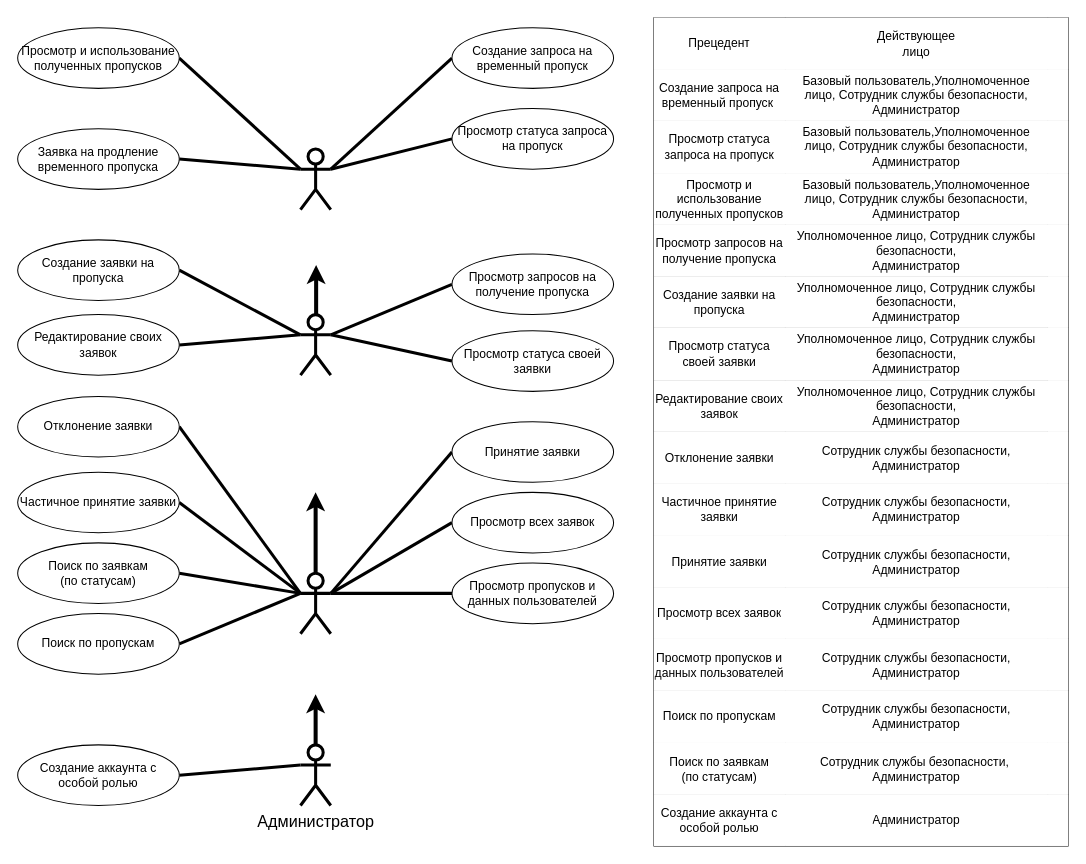
This 1086x864 diagram has some shape labels left out. Each missing label, with the centre of its shape:
"Базовый пользователь" belongs at pixel 315 179.
"Сотрудник службы безопасности" belongs at pixel 315 603.
"Уполномоченное лицо" belongs at pixel 315 344.
